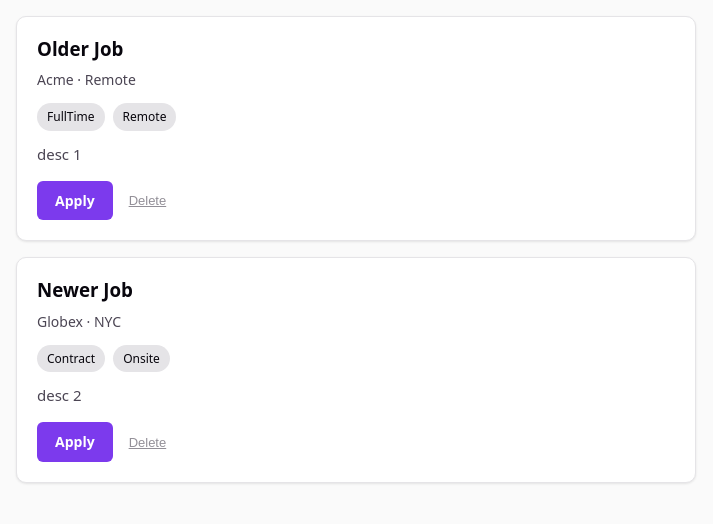
it: JobList › shows an error message and keeps the job if deleteJob fails
The image size is (713, 524).
Click the button "Delete" below "Older Job": (147, 201) x1=129 y1=193 x2=166 y2=208
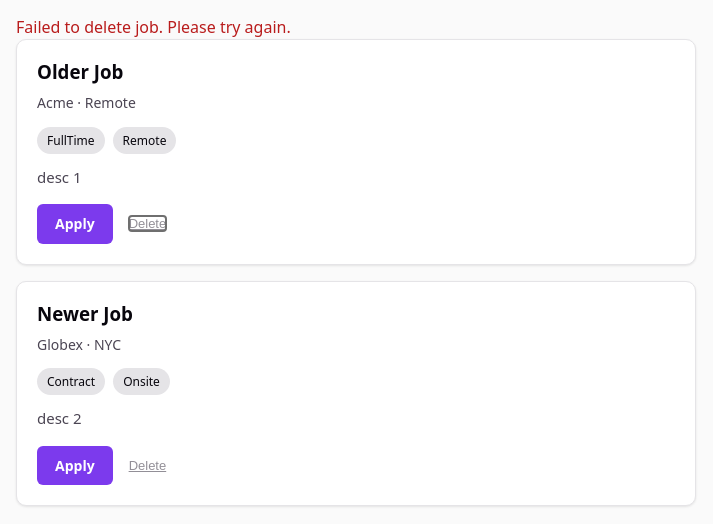
Expected: the heading "Older Job" is shown, x1=37 y1=60 x2=124 y2=83
Expected: the message shows "Failed to delete job", x1=16 y1=16 x2=291 y2=38
